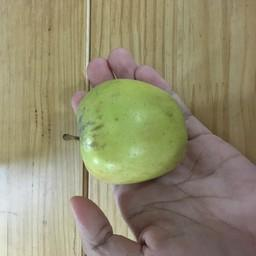Bad_apple: (76, 76, 189, 185)
